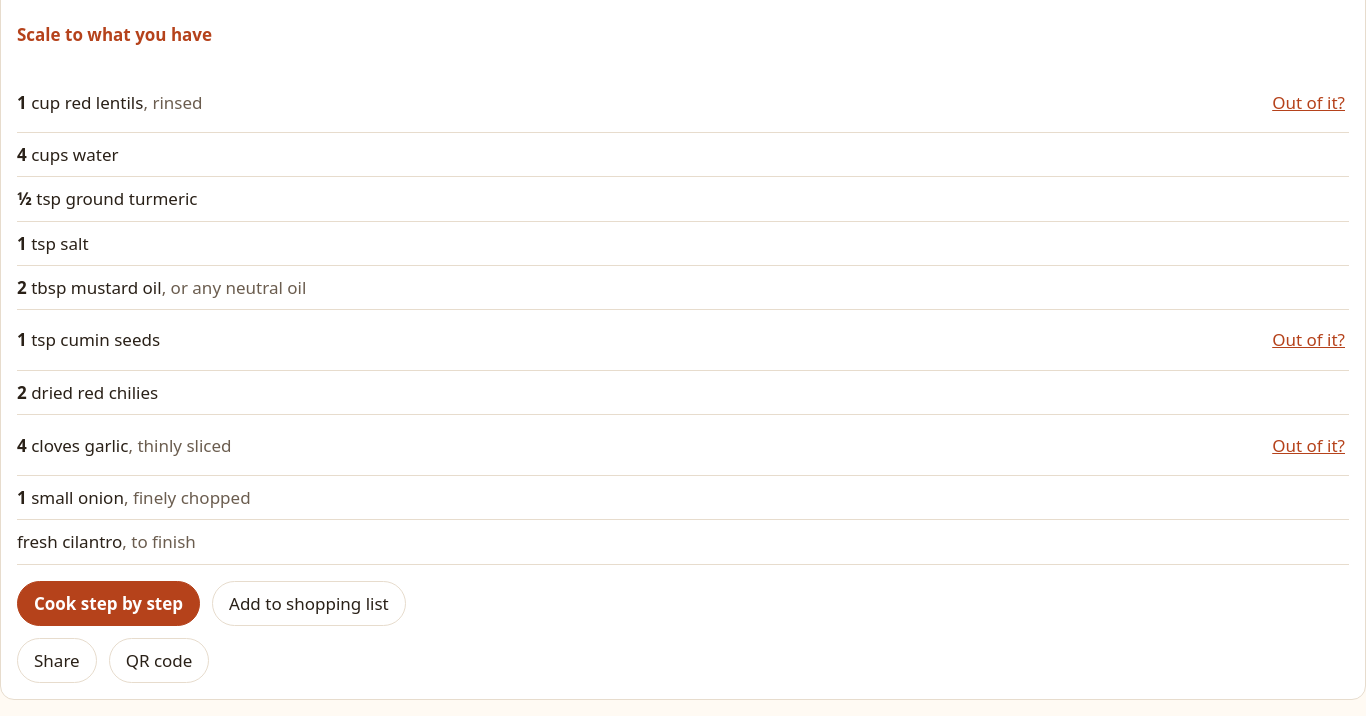
it: Sharing a scaled recipe › shows the link to copy by hand if copying is blocked
(page scrolled)
Click the button "Share". click: click(57, 660)
box: [17,638,97,683]
(page scrolled)
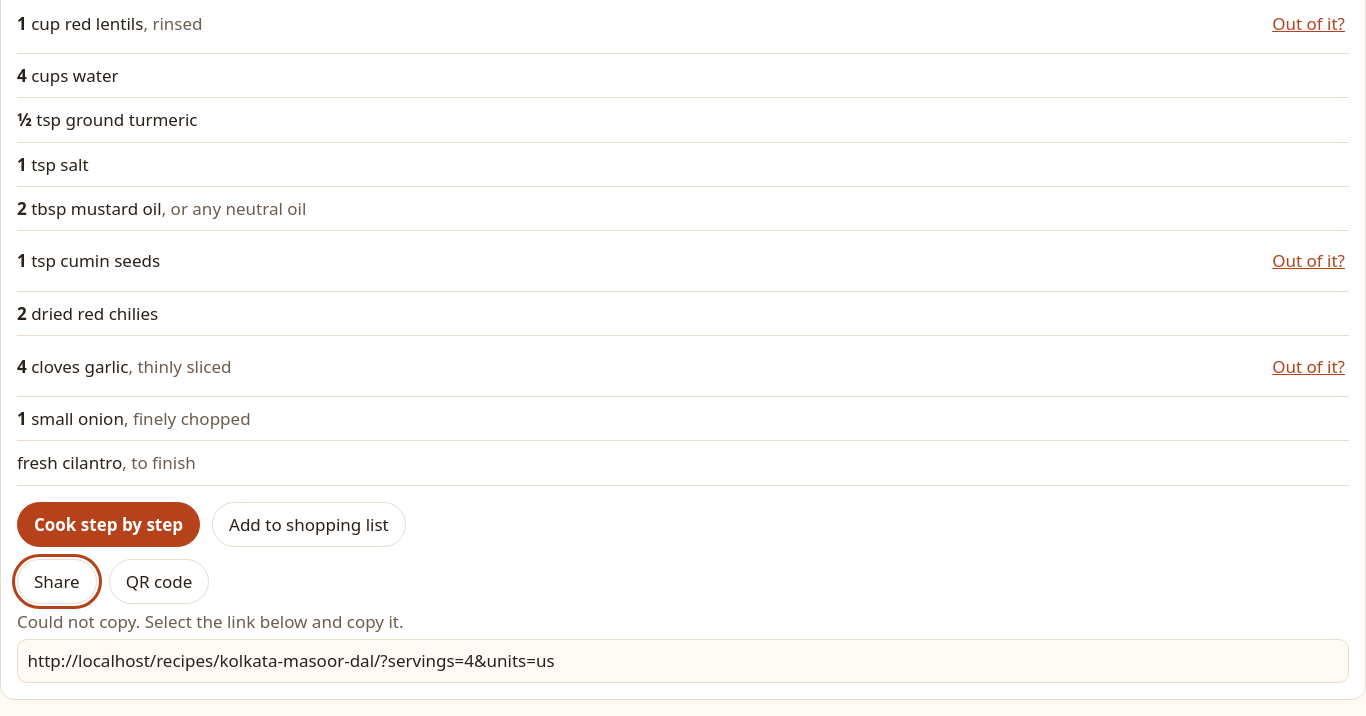
Expected: the text "Could not copy. Select the link below and copy it." is shown, [17,610,404,633]
